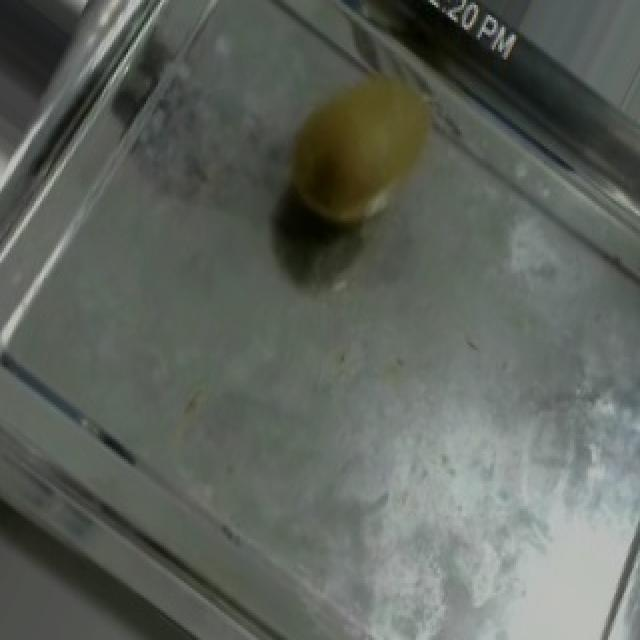Fruit: (244, 35, 474, 263)
